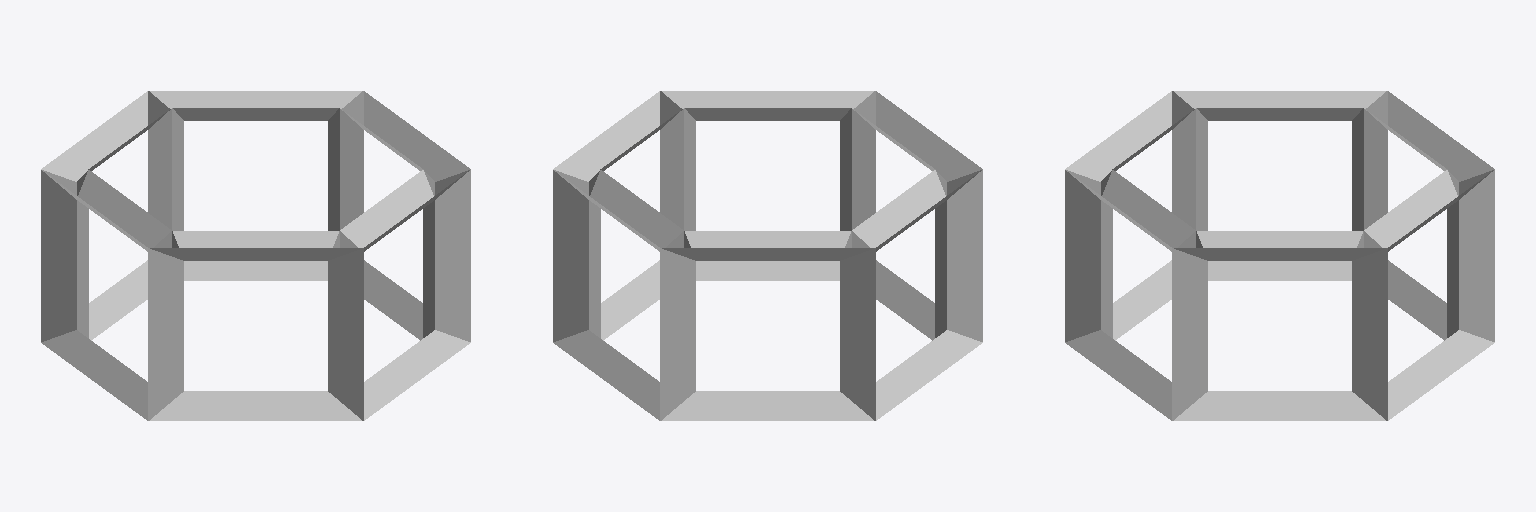
The model's file is beacon.obj.
The picture shows the model from 3 angles: view 1: azimuth 30°, elevation 25°; view 2: azimuth 150°, elevation 25°; view 3: azimuth 270°, elevation 25°; orthographic projection.
Parts seen in each view (by area): view 1: Circle; view 2: Circle; view 3: Circle.
Boxes of the visible parts, x1,y1,x2,y2 form: Circle: [41, 91, 470, 420]; Circle: [553, 91, 982, 420]; Circle: [1065, 91, 1494, 420].
Bounding box in the file's own units: 1.95 × 1 × 2.25.